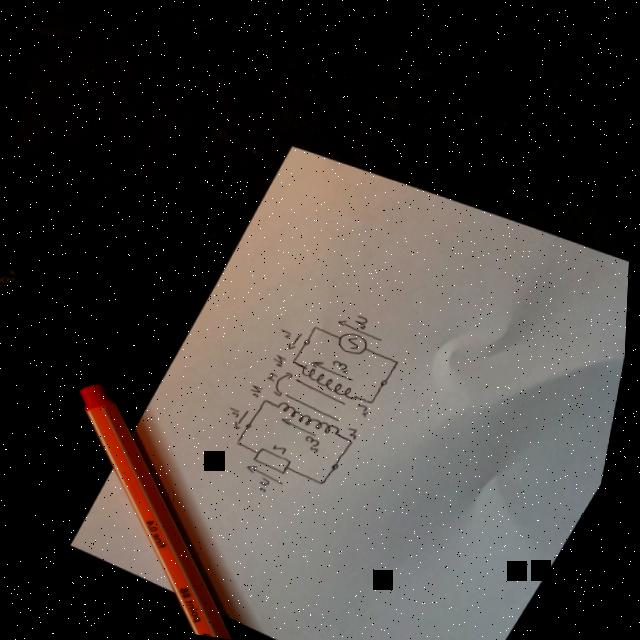junction: (266, 395, 274, 402), (238, 437, 246, 444), (350, 436, 358, 443), (321, 477, 330, 483), (398, 357, 404, 362), (372, 397, 378, 402), (315, 323, 321, 328), (294, 357, 300, 362)
resistor: (254, 444, 298, 473)
source: (340, 329, 373, 354)
text: (307, 433, 325, 451), (334, 358, 354, 372), (356, 311, 372, 328), (359, 400, 374, 416), (275, 352, 290, 366), (253, 382, 267, 396), (263, 475, 276, 490), (280, 325, 296, 337), (276, 443, 292, 453), (350, 425, 362, 437), (232, 405, 245, 416), (270, 370, 282, 379)
transformer: (276, 360, 363, 435)
